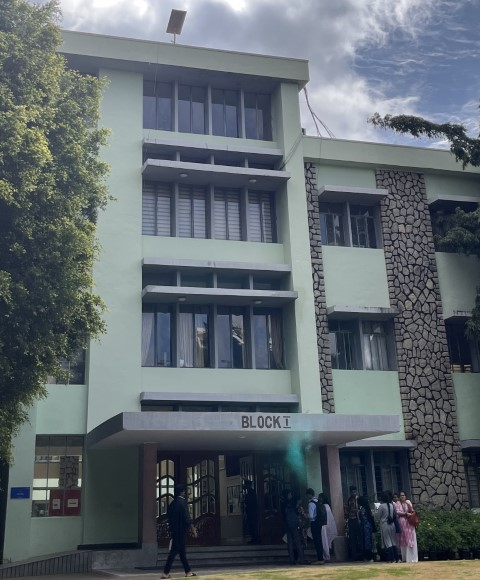Block 1: (84, 15, 471, 518)
